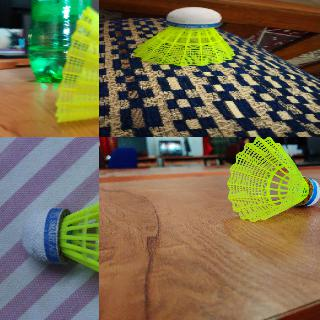shuttlecock: (21, 170, 98, 315), (226, 137, 319, 223), (132, 7, 235, 66), (54, 7, 98, 122)
